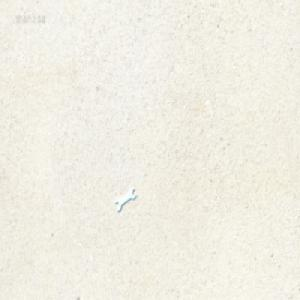Wrench: (115, 188, 136, 214)
